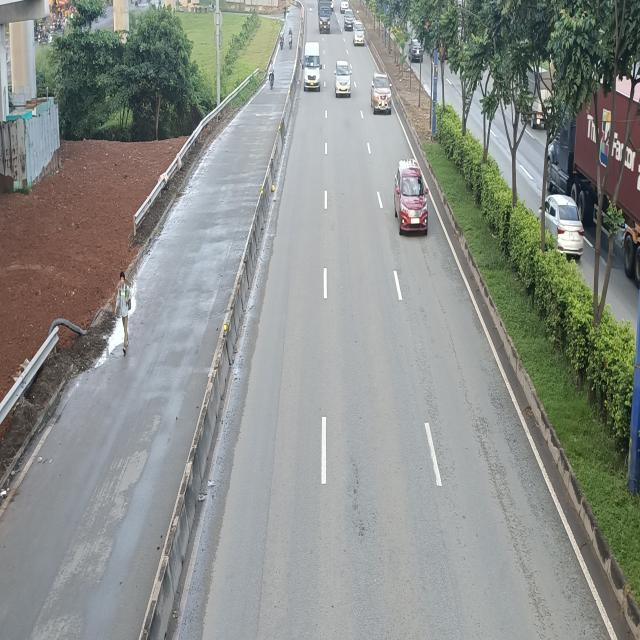car: (396, 161, 432, 236), (371, 73, 394, 116)
van: (300, 40, 322, 90)
